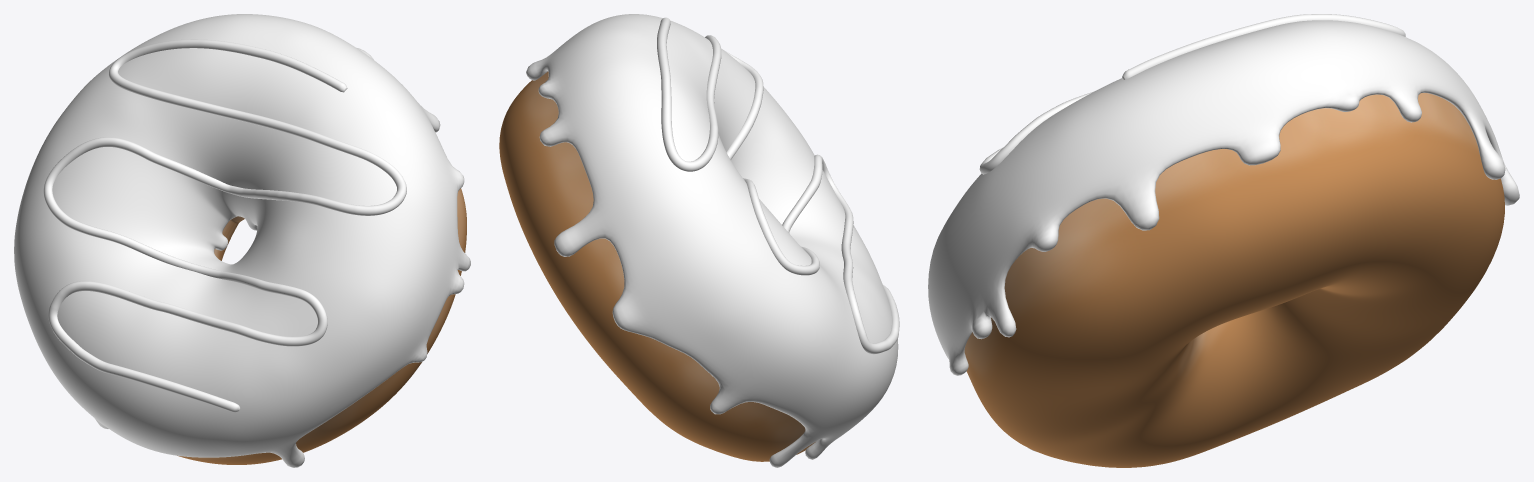
The picture shows the model from 3 angles, left to right: view 1: azimuth 30°, elevation 25°; view 2: azimuth 150°, elevation 25°; view 3: azimuth 270°, elevation 25°; orthographic projection. The views are drawn at different scales.
Visible parts, largest first — view 1: Icing, Drizzle, Donut; view 2: Icing, Donut, Drizzle; view 3: Donut, Icing, Drizzle.
Boxes of the visible parts, x1,y1,x2,y2 form: Icing: [14, 14, 470, 467]; Drizzle: [43, 39, 406, 412]; Donut: [177, 188, 466, 464]; Icing: [526, 14, 898, 467]; Donut: [499, 71, 815, 461]; Drizzle: [657, 17, 899, 354]; Donut: [964, 93, 1504, 467]; Icing: [928, 20, 1519, 451]; Drizzle: [979, 14, 1405, 174].
Bounding box in the file's own units: 1.05 × 1.07 × 1.19.
